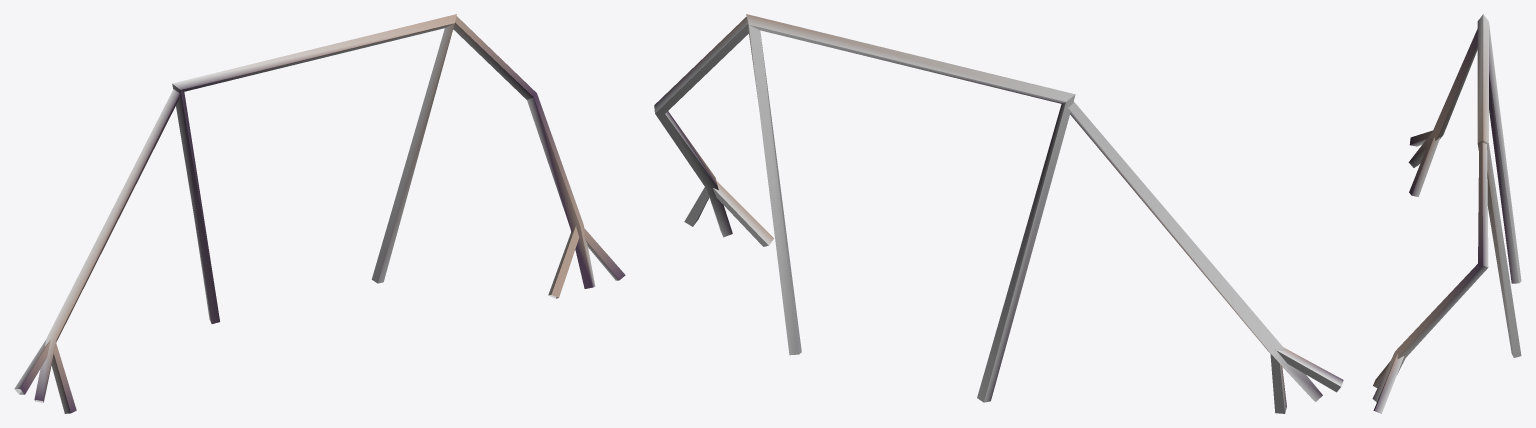
Rendered from masenitsag2V3.fbx.
3 renders of one model, left to right at view 1: azimuth 30°, elevation 25°; view 2: azimuth 150°, elevation 25°; view 3: azimuth 270°, elevation 25°, orthographic. The views are drawn at different scales.
Visible parts, largest first — view 1: masenitsag2V3; view 2: masenitsag2V3; view 3: masenitsag2V3.
Part boxes in pixels (box(x1,y1,x2,y2)): masenitsag2V3: box(14, 14, 625, 413); masenitsag2V3: box(654, 14, 1343, 413); masenitsag2V3: box(1372, 14, 1521, 413).
Size of the model in its own units: 328 by 143 by 79.04.
